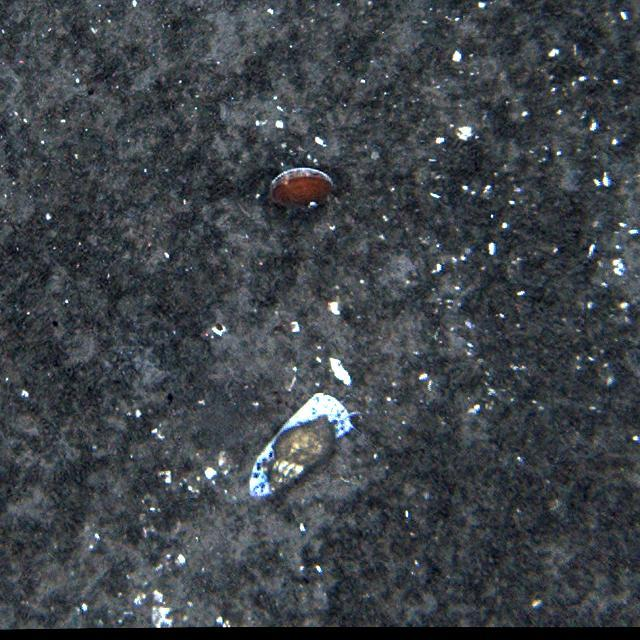whelk: (268, 418, 336, 496)
